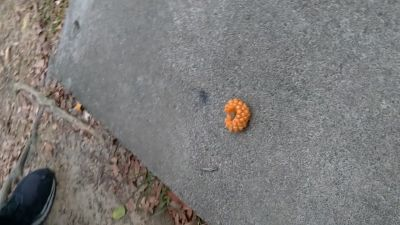eggs: (222, 97, 252, 135)
